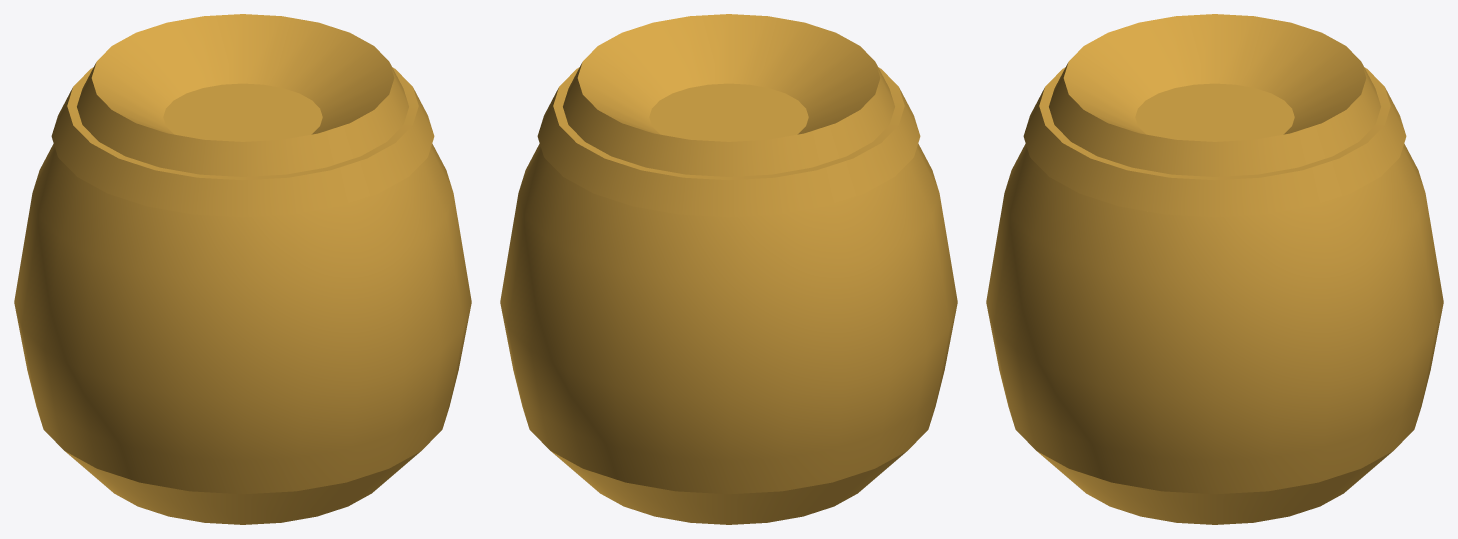
The model's file is Vaso2.fbx.
3 views of the same model, side by side, from view 1: azimuth 30°, elevation 25°; view 2: azimuth 150°, elevation 25°; view 3: azimuth 270°, elevation 25° (orthographic).
Visible parts, largest first — view 1: Vaso2; view 2: Vaso2; view 3: Vaso2.
Boxes of the visible parts, x1,y1,x2,y2 form: Vaso2: [14, 14, 471, 524]; Vaso2: [500, 14, 957, 524]; Vaso2: [986, 14, 1443, 524].
Size of the model in its own units: 37.78 by 34.99 by 37.78.
1 material, 1 textured.
